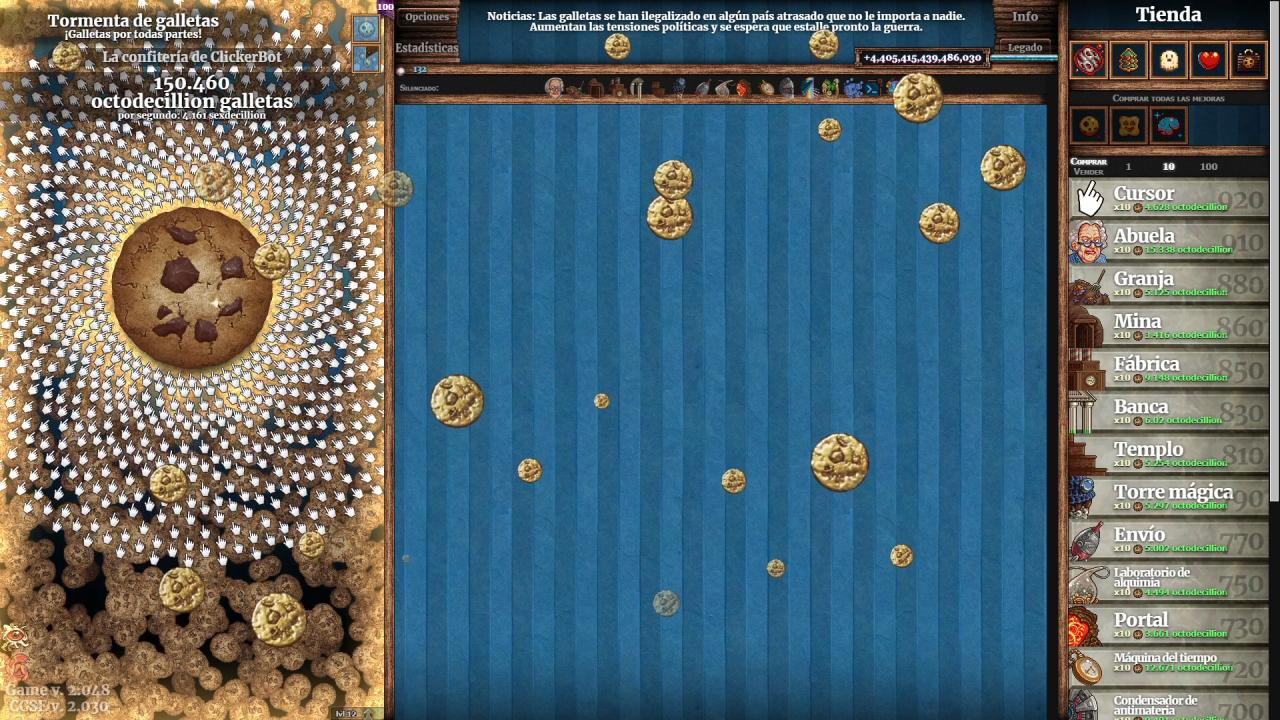GoldenCookie: (808, 431, 871, 495), (249, 591, 307, 649), (430, 373, 486, 428), (892, 70, 946, 124), (979, 143, 1029, 193), (645, 192, 695, 241), (157, 567, 207, 614), (918, 201, 962, 246), (651, 157, 695, 202), (192, 162, 237, 204), (252, 241, 292, 282), (148, 464, 188, 504), (376, 170, 414, 210), (807, 28, 840, 61), (51, 41, 83, 72), (652, 588, 682, 619), (297, 529, 326, 559), (604, 31, 632, 61), (517, 456, 544, 485), (721, 467, 748, 496), (889, 542, 915, 569), (817, 116, 843, 143), (765, 557, 787, 580), (594, 391, 610, 411)
